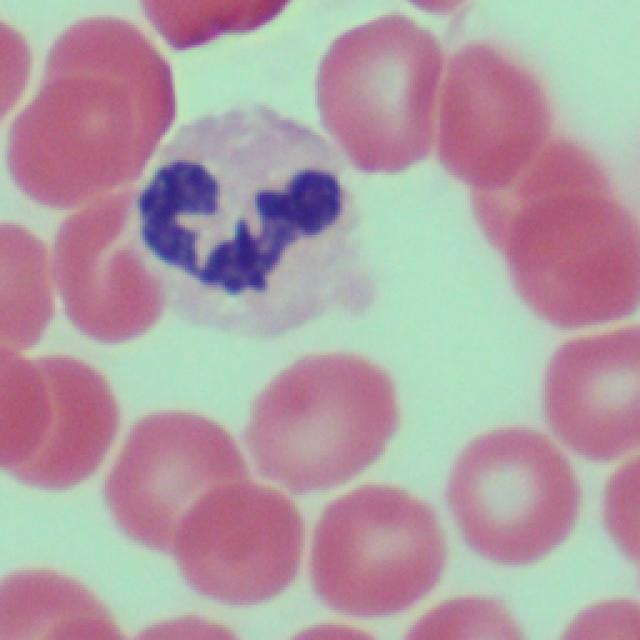RBC: (11, 11, 166, 229), (481, 144, 639, 338), (233, 330, 392, 496), (310, 9, 444, 177), (440, 420, 576, 576), (302, 481, 436, 622), (2, 350, 115, 502), (167, 483, 301, 608), (63, 196, 162, 348), (534, 323, 637, 464), (1, 209, 74, 382), (138, 0, 296, 50), (392, 594, 522, 640), (599, 440, 640, 573)
WBC: (144, 86, 382, 326)
